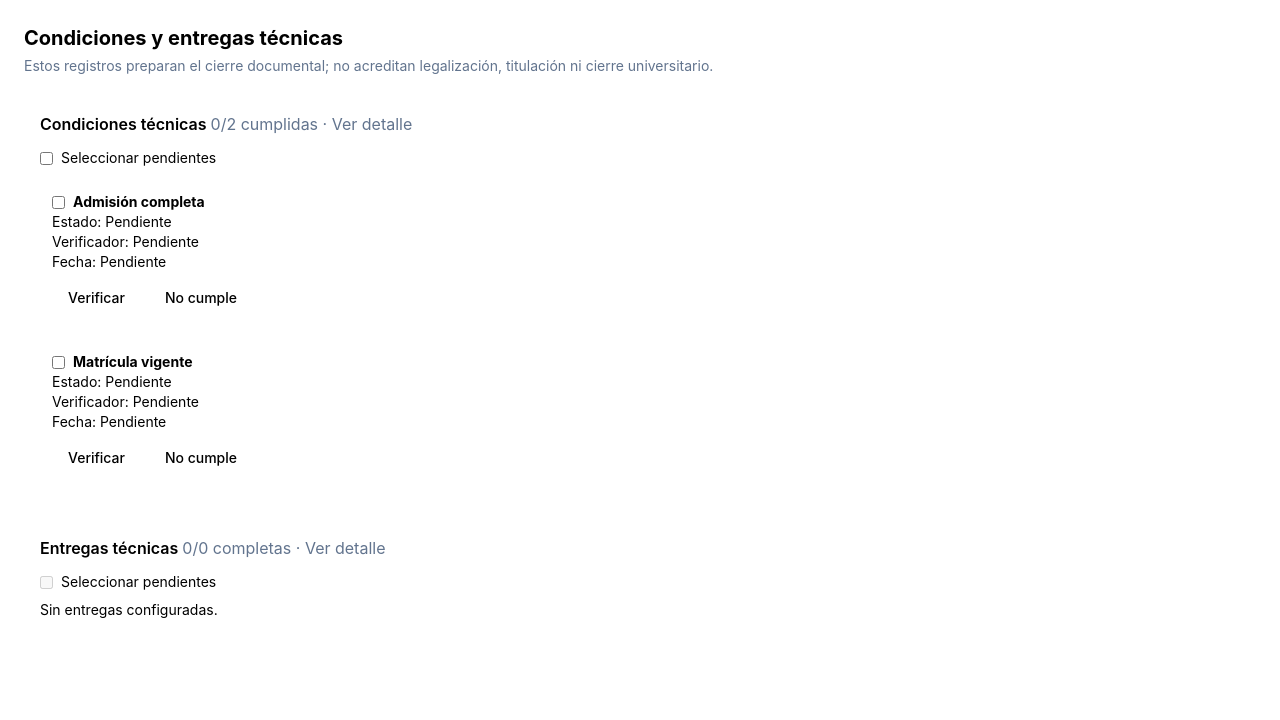
Test case: ClosureRequirements › abre No cumple junto a la condición seleccionada
Check: the text "Admisión completa" is shown, box [73,192,205,212]
Click the button "No cumple" below "Admisión completa".
click(201, 298)  # box [149,280,253,316]
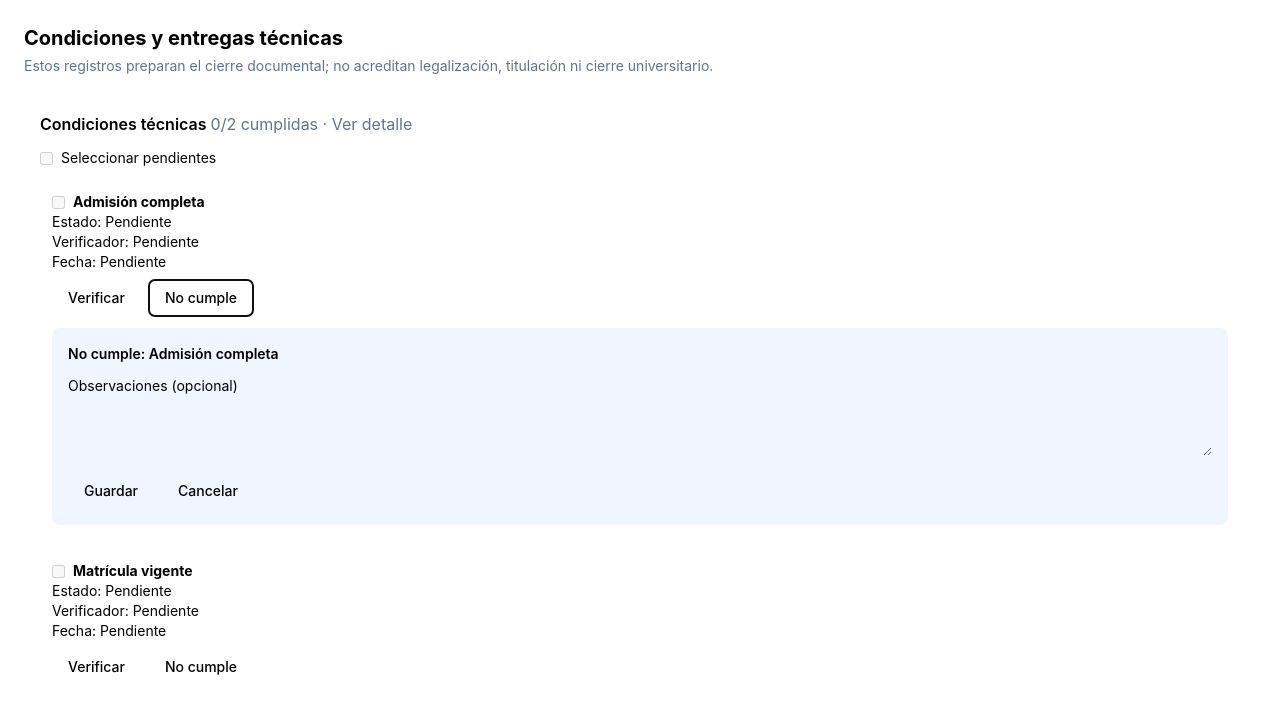
Check: the form named "Marcar no cumple: Admisión completa" is shown, box [52,328,1228,525]
Check: the heading "No cumple: Admisión completa" is shown, box [68,345,279,362]
